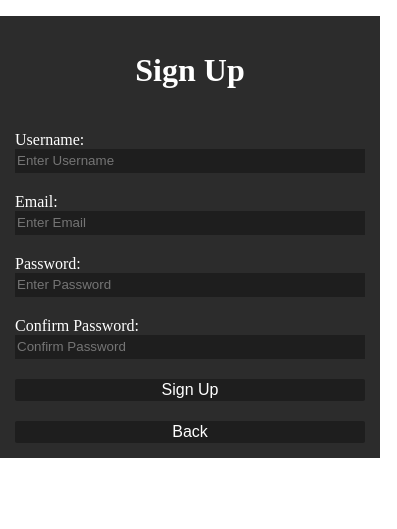
Test case: Sign Up Component › When fields are empty sign up will not run and errors will display
The image size is (397, 529).
Click the button "Sign Up" at coordinates (190, 390), box x1=15 y1=379 x2=365 y2=401
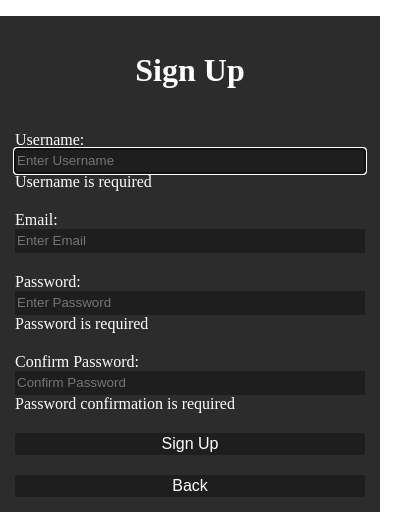
Now the text "Username is required" is shown, box x1=15 y1=173 x2=152 y2=190
Now the text "Password is required" is shown, box x1=15 y1=315 x2=148 y2=332
Now the text "Password confirmation is required" is shown, box x1=15 y1=395 x2=235 y2=412
